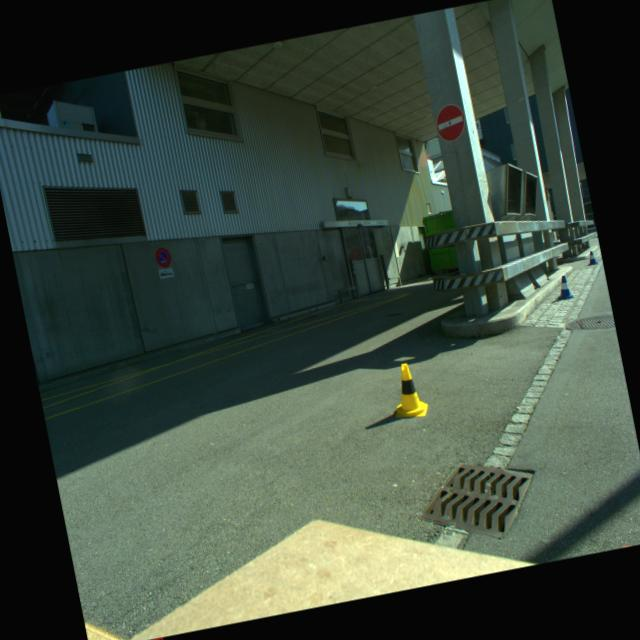blue_cone: (553, 274, 575, 302), (586, 250, 598, 266)
yellow_cone: (386, 361, 430, 422)
